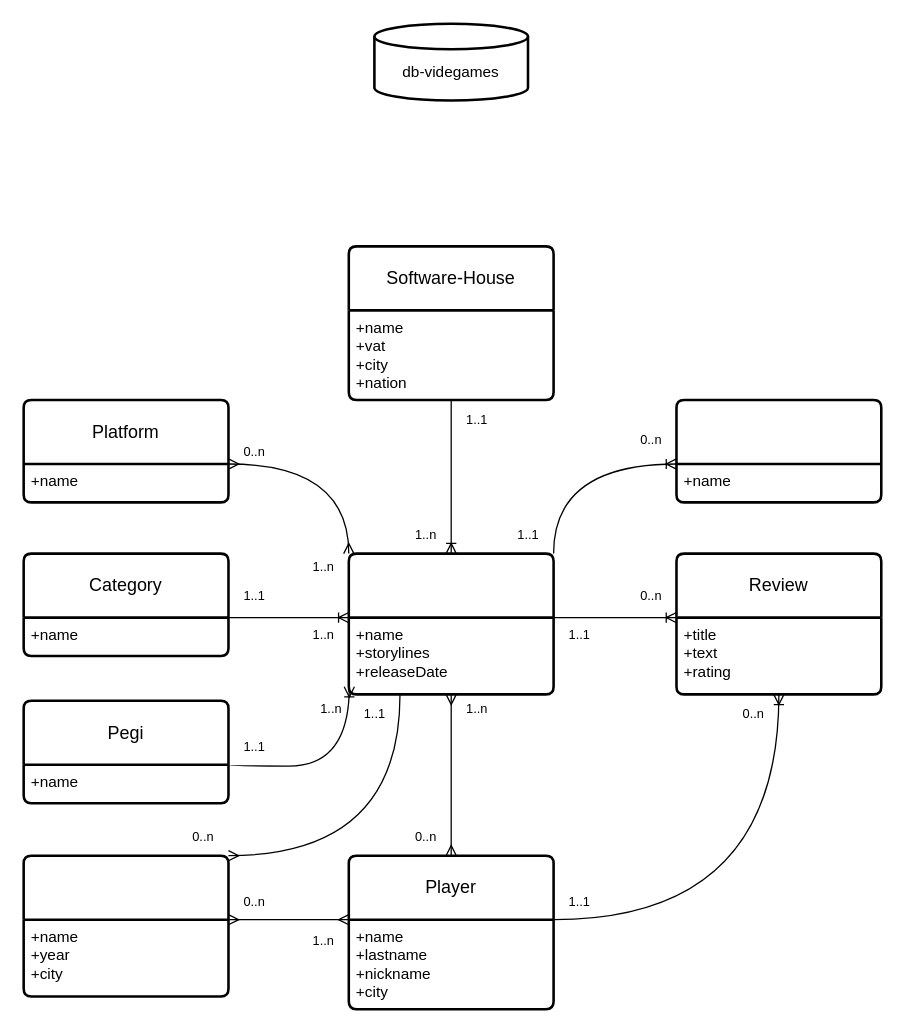
Some shapes in this 904 by 1032 pixel diagram are drawn without their labels. Here are the shapes that lost their labels. From the top down, the box of each, then its label:
(675, 398, 882, 503): Prize
(347, 552, 554, 695): Videogame
(22, 854, 229, 997): Tournament
